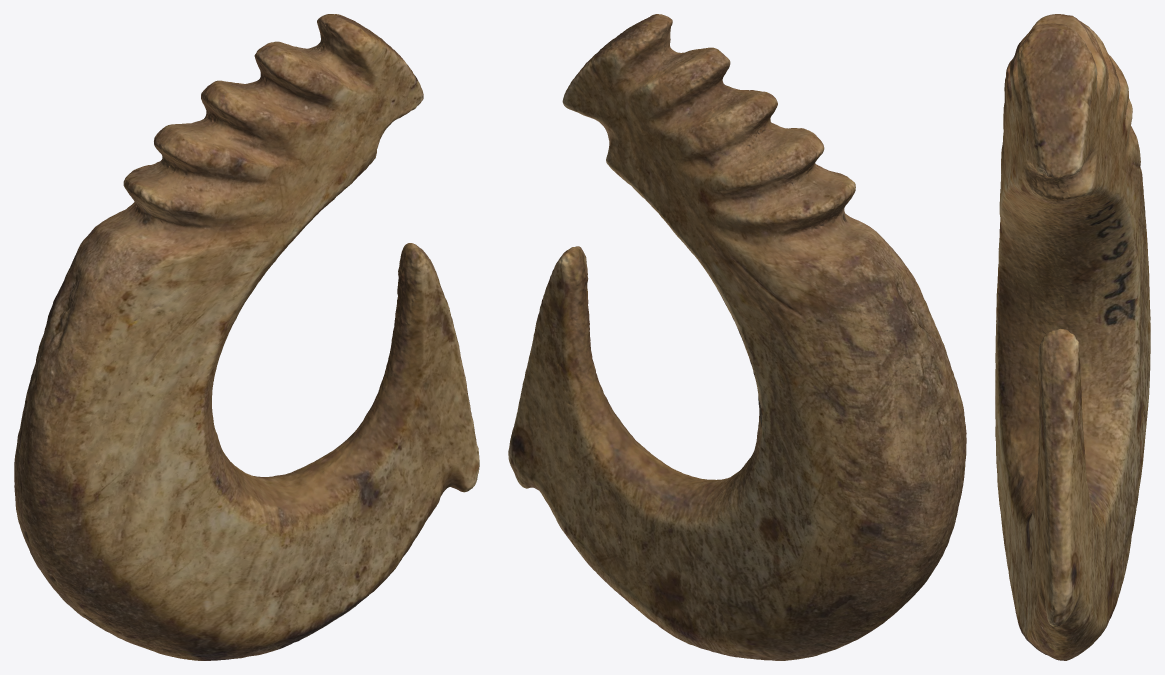
Rendered from preview.glb.
3 renders of one model, left to right at view 1: azimuth 30°, elevation 25°; view 2: azimuth 150°, elevation 25°; view 3: azimuth 270°, elevation 25°, orthographic. The views are drawn at different scales.
Visible parts, largest first — view 1: FishHook_FishHook_0; view 2: FishHook_FishHook_0; view 3: FishHook_FishHook_0.
Part boxes in pixels (x1=…): FishHook_FishHook_0: x1=14, y1=14, x2=479, y2=660; FishHook_FishHook_0: x1=508, y1=14, x2=966, y2=660; FishHook_FishHook_0: x1=995, y1=14, x2=1150, y2=660.
Size of the model in its own units: 241 by 312 by 67.72.
Materials: 1 (1 with a texture image).
